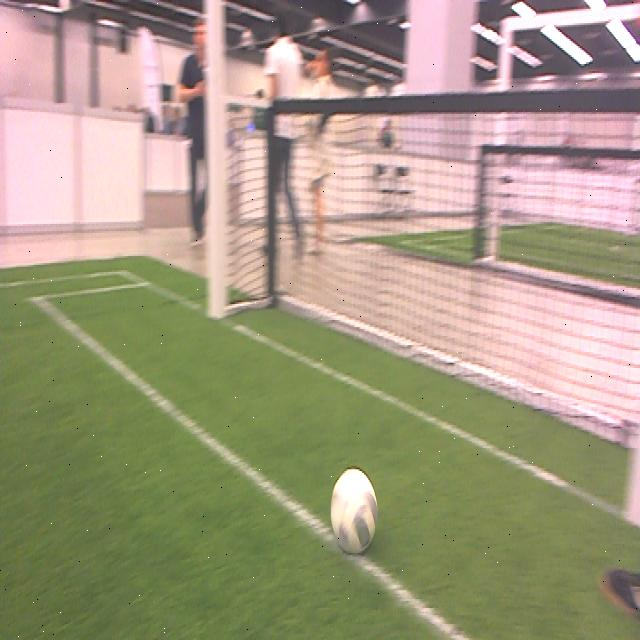ball: (331, 468, 377, 554)
goalpost: (208, 0, 231, 315)
